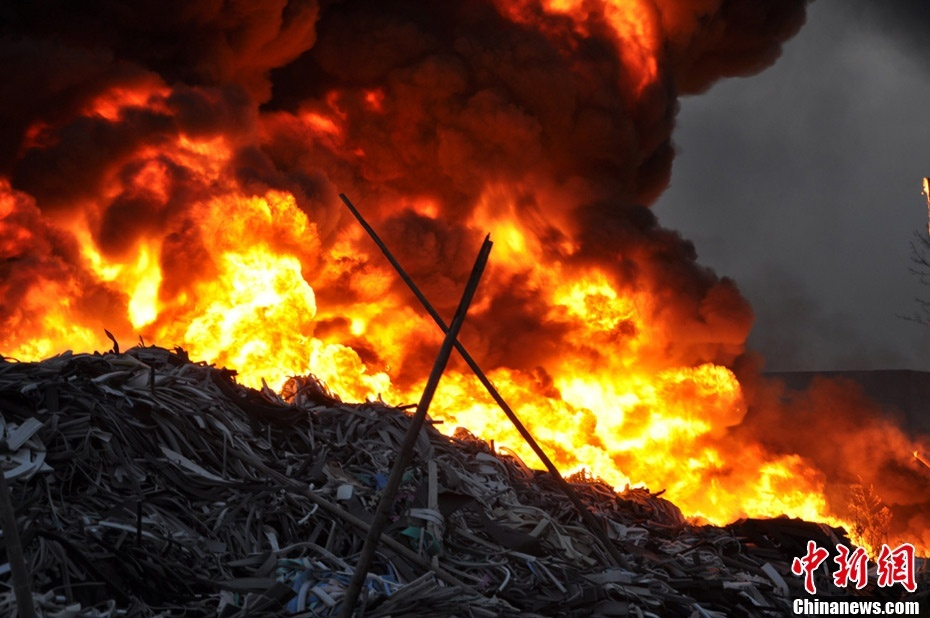fire: (26, 116, 655, 436)
